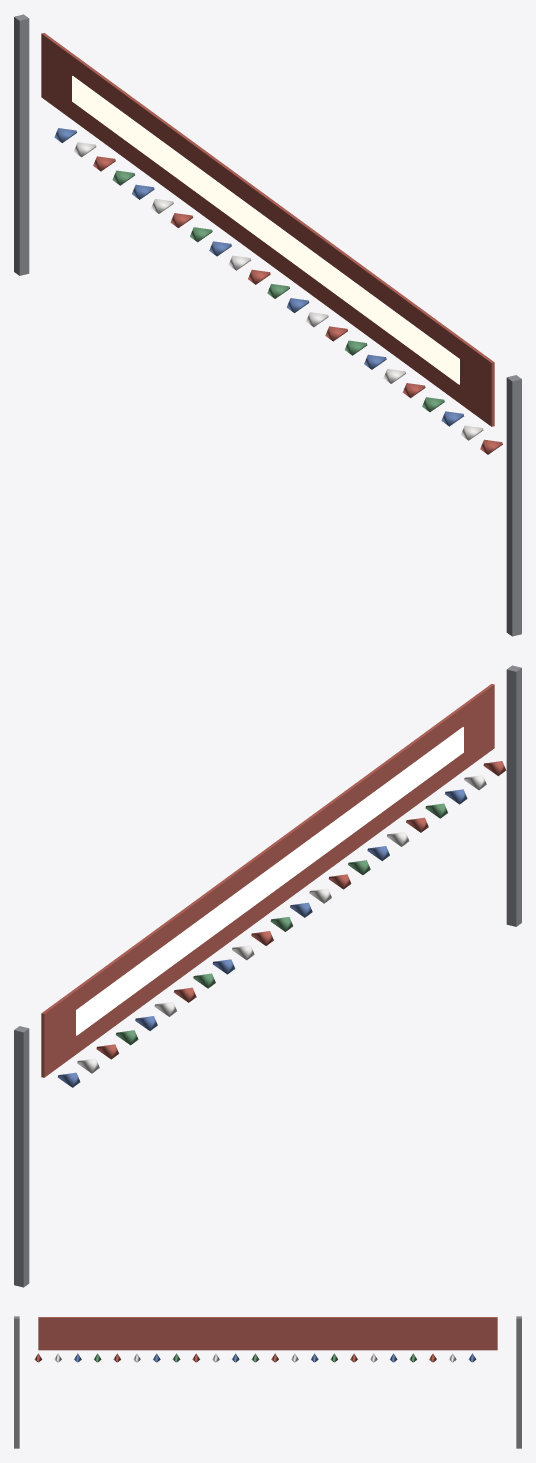
File: prop_arcade_banner.glb
3 views of the same model, one above another, from view 1: azimuth 30°, elevation 25°; view 2: azimuth 150°, elevation 25°; view 3: azimuth 270°, elevation 25° (orthographic). The views are drawn at different scales.
Parts seen in each view (by area): view 1: arcade_banner; view 2: arcade_banner; view 3: arcade_banner.
Boxes of the visible parts, x1,y1,x2,y2 form: arcade_banner: [14, 14, 521, 636]; arcade_banner: [14, 665, 521, 1287]; arcade_banner: [14, 1316, 521, 1448].
Size of the model in its own units: 0.3 by 4 by 14.16.
